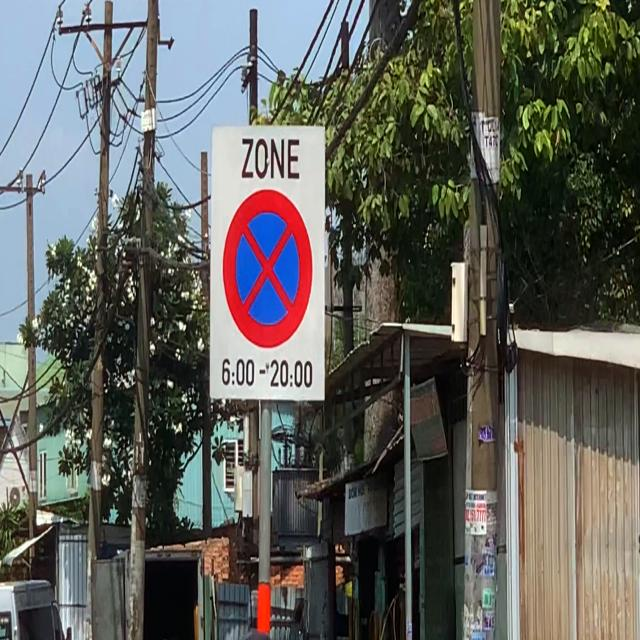Cam dung va do: (219, 185, 317, 353)
